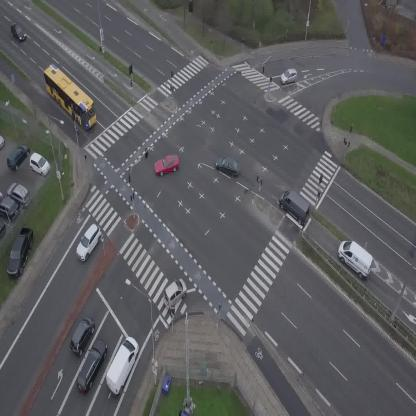bus: (35, 62, 106, 132)
car: (72, 337, 112, 395), (70, 222, 107, 263), (65, 314, 99, 358), (156, 275, 192, 312), (213, 154, 244, 180), (152, 153, 181, 177), (7, 22, 29, 45), (279, 68, 299, 85)
lorry: (100, 334, 145, 396), (332, 235, 381, 282), (273, 185, 318, 228)
